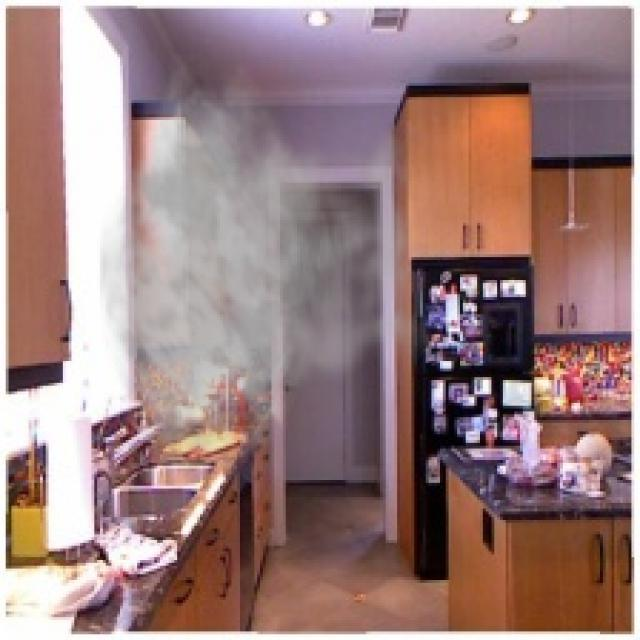Smoke: (97, 54, 440, 480)
